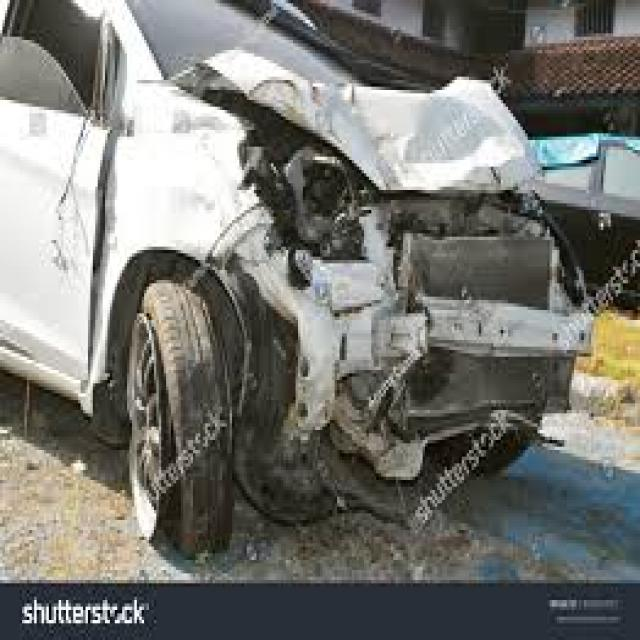severe: (119, 13, 635, 640)
